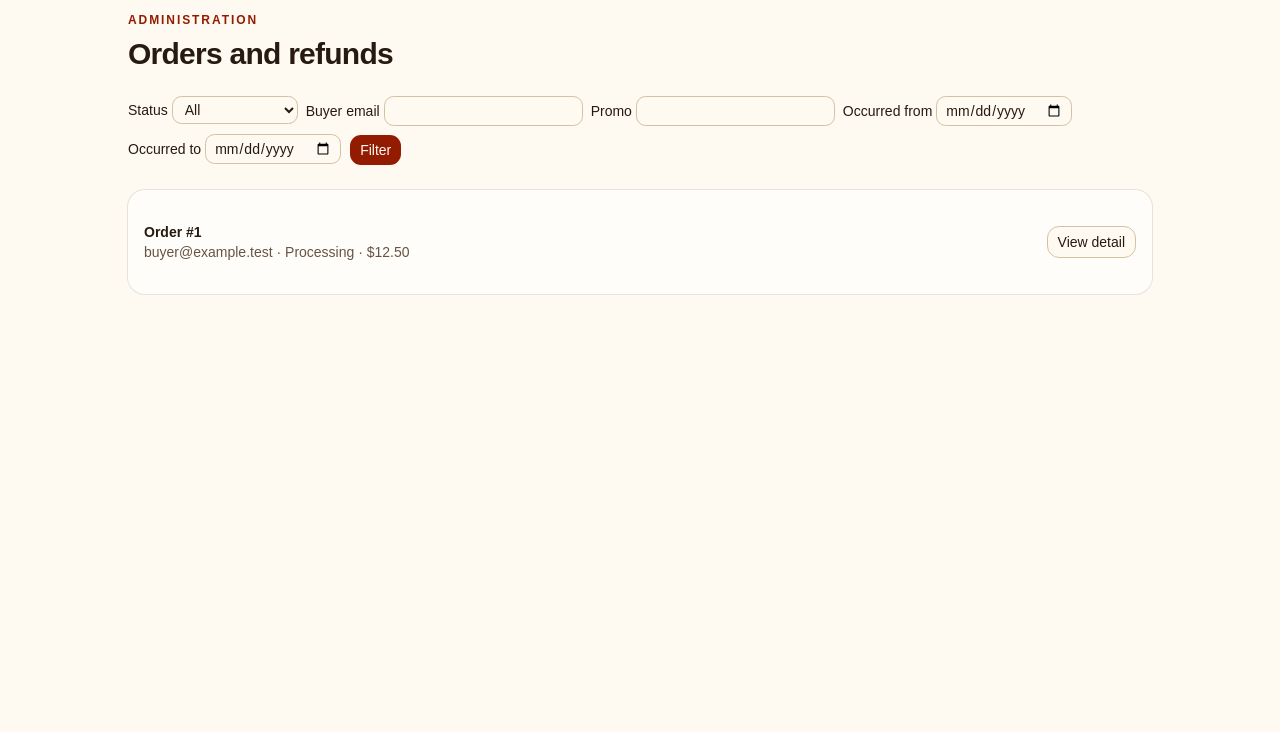
AdminOrdersPage › renders coded refund errors in the selected locale and hides legacy prose
Click the button "View detail" at (1091, 242), box x1=1046 y1=226 x2=1136 y2=258
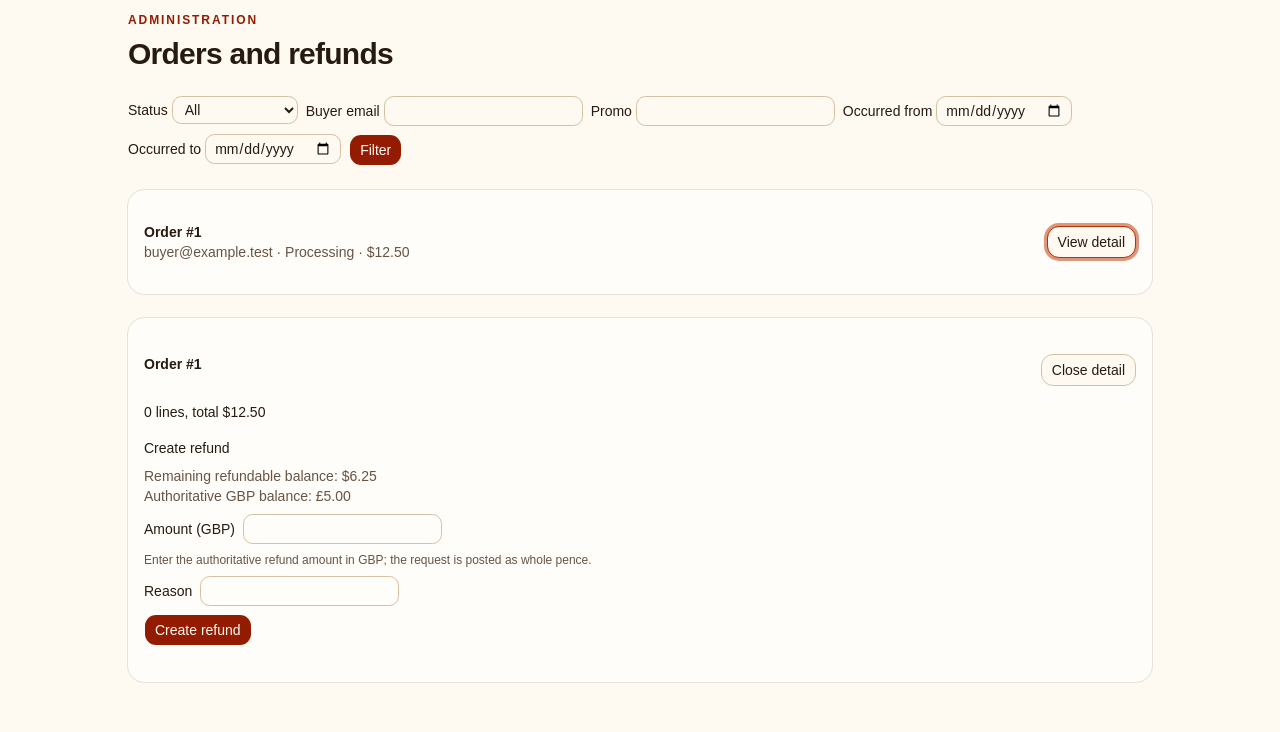
Type "5" into the number field at (342, 529), box x1=243 y1=514 x2=442 y2=544
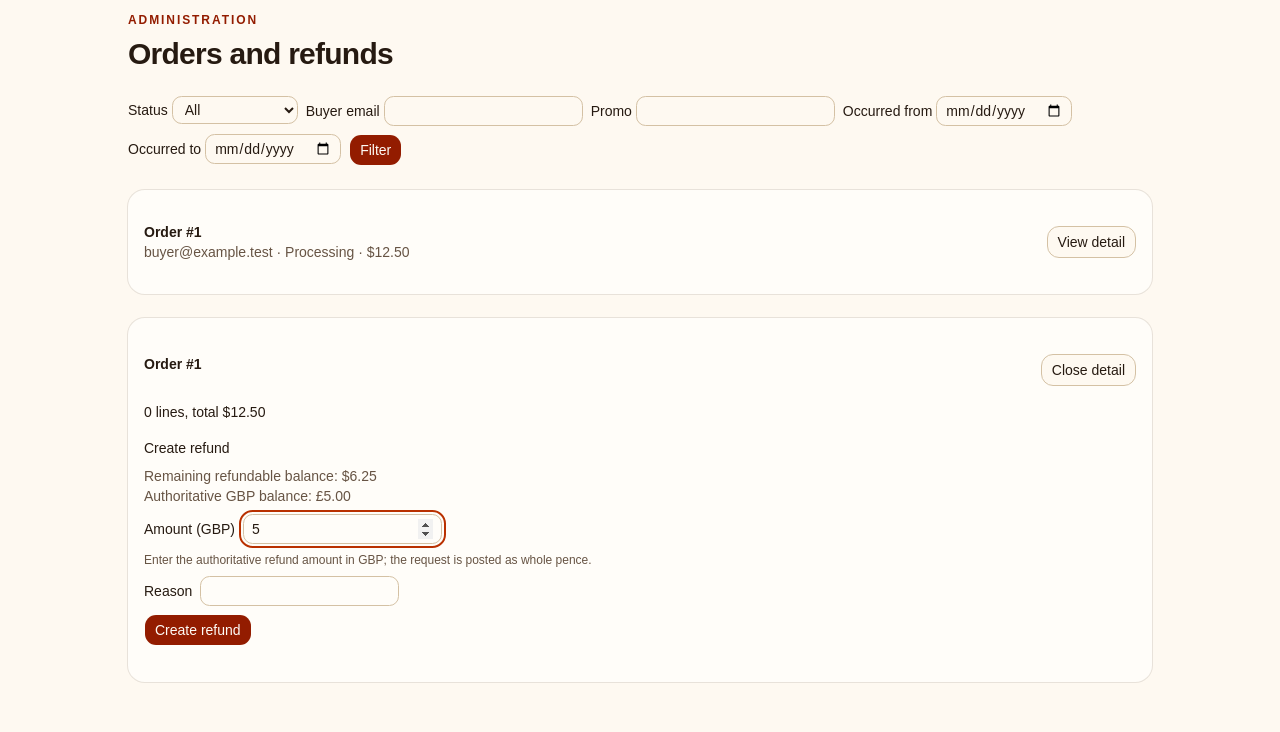
Type "Duplicate" into the field labelled "Reason" at (300, 591), box x1=200 y1=576 x2=399 y2=606
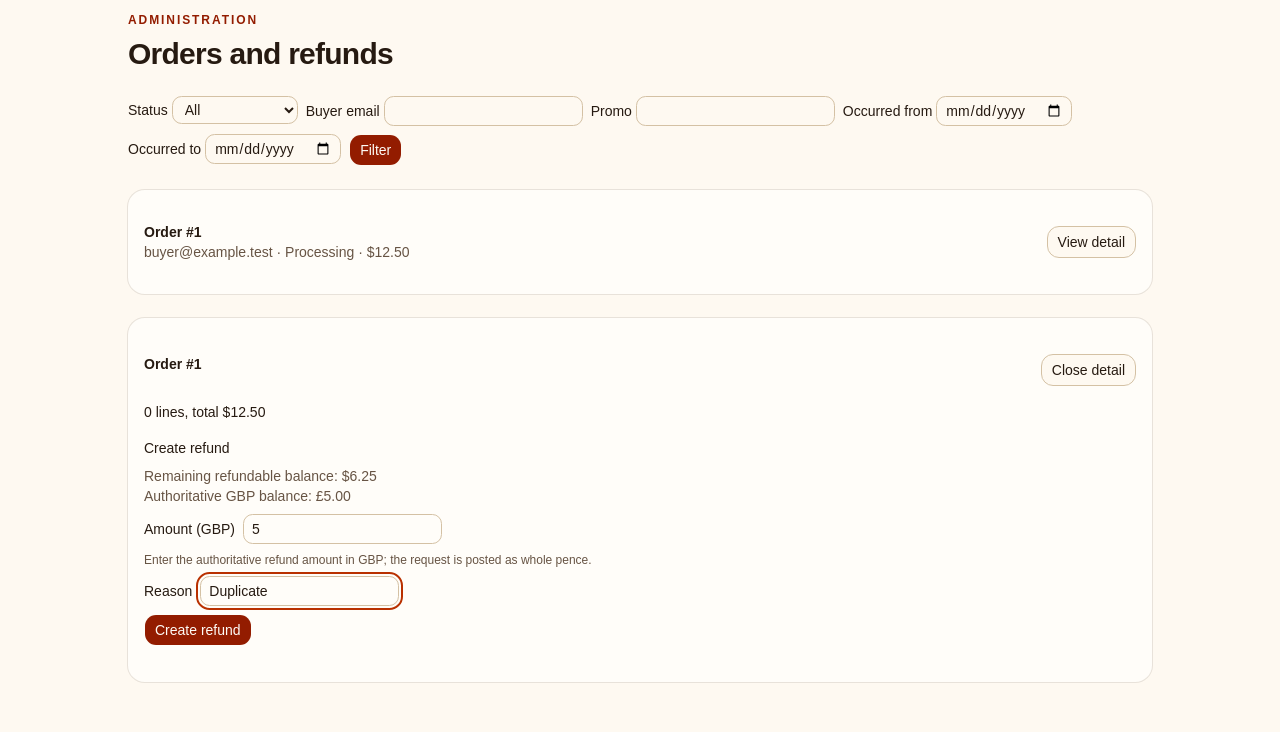
Click the button "Create refund" at (198, 630), box x1=144 y1=614 x2=252 y2=646
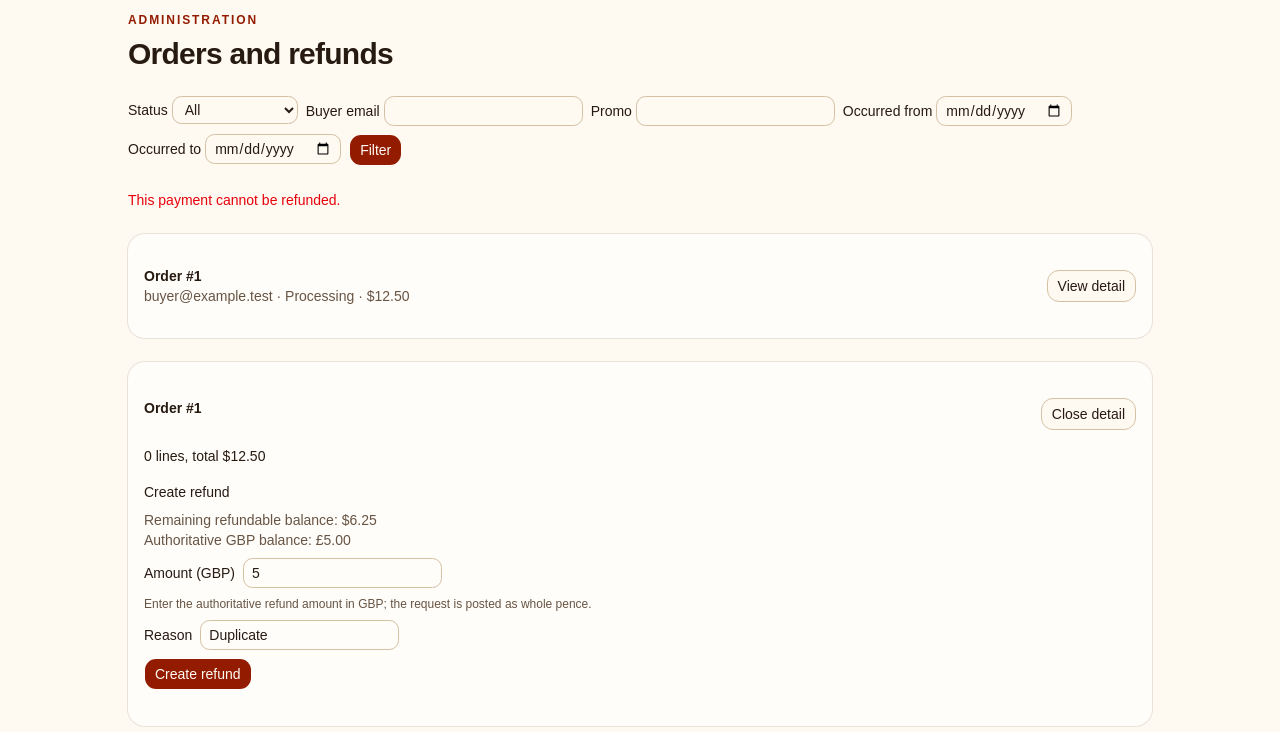
Now the message reads "This payment cannot be refunded.", box x1=128 y1=192 x2=340 y2=208
